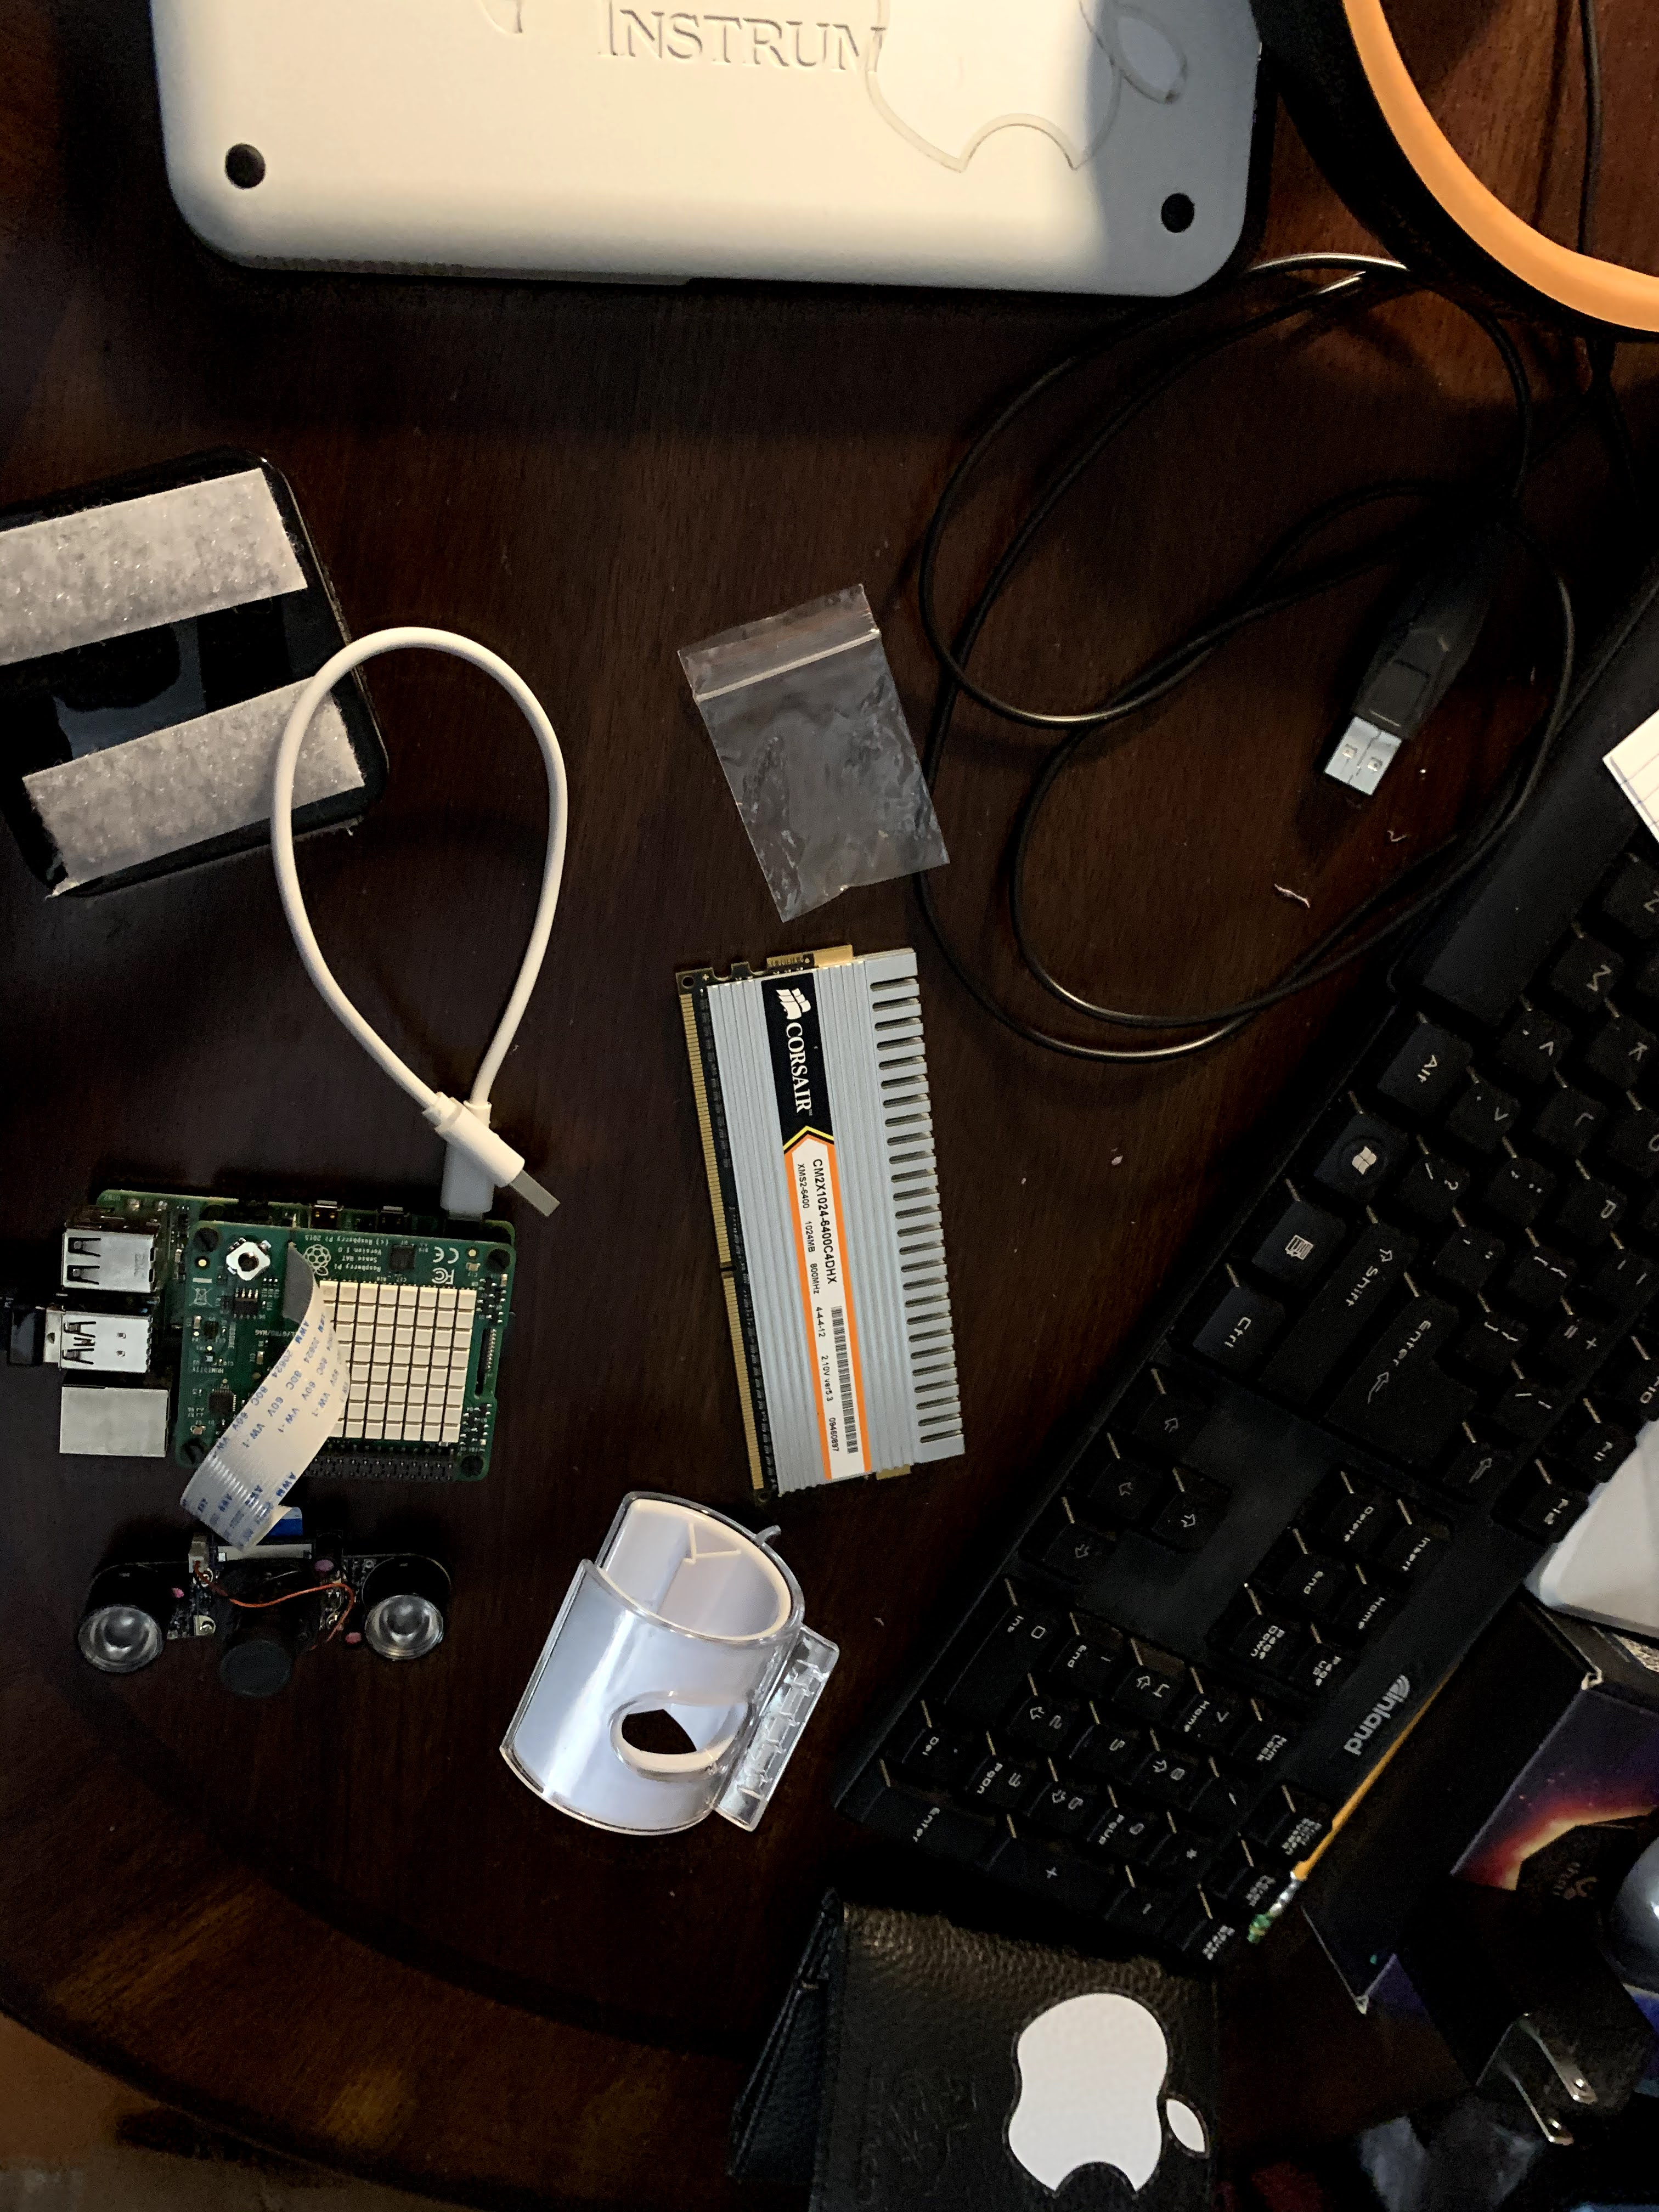Space-debris-medium: (648, 906, 1009, 1507)
